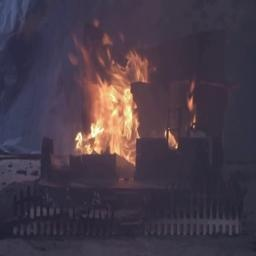fire: (56, 14, 199, 171)
